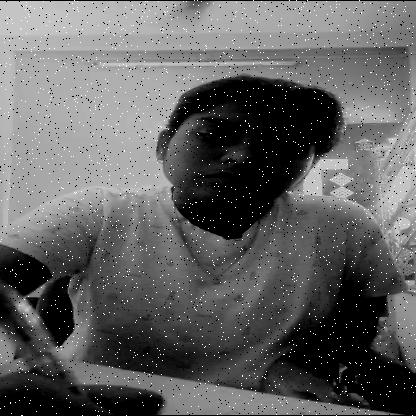Normal: (159, 113, 325, 204)
